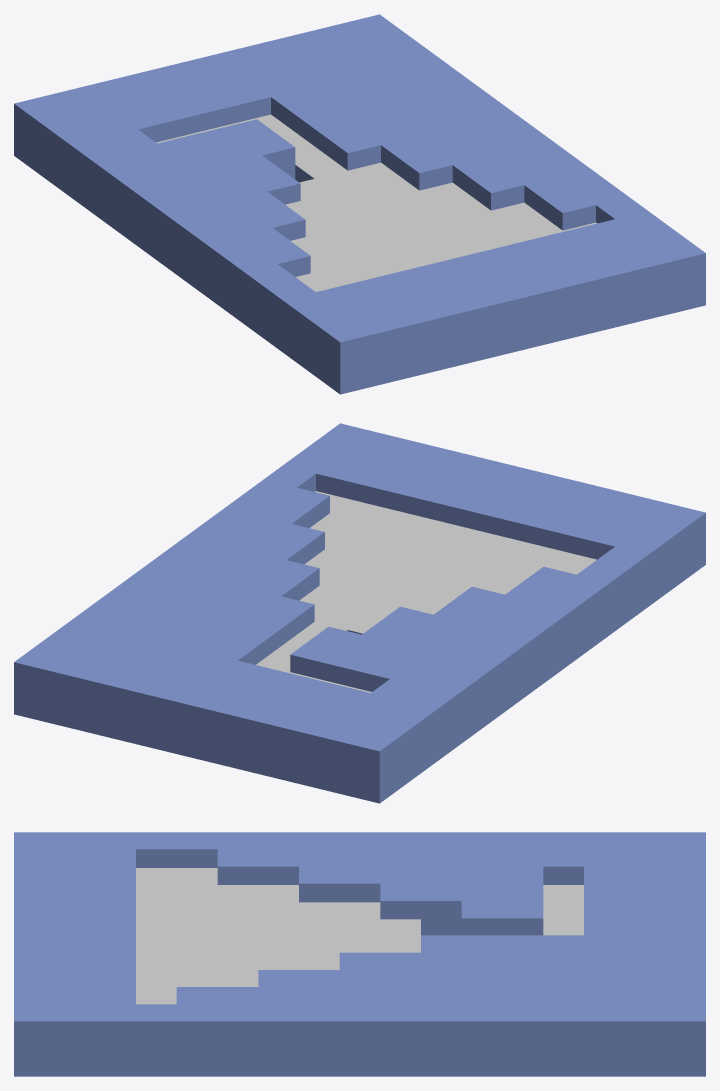
The model's file is 020_platform.fbx.
3 views of the same model, one above another, from view 1: azimuth 30°, elevation 25°; view 2: azimuth 150°, elevation 25°; view 3: azimuth 270°, elevation 25° (orthographic). The views are drawn at different scales.
Parts seen in each view (by area): view 1: Grid; view 2: Grid; view 3: Grid.
Part boxes in pixels (x1,y1,x2,y2): Grid: [14, 14, 705, 394]; Grid: [14, 423, 705, 803]; Grid: [14, 832, 705, 1076].
Bounding box in the file's own units: 1100 × 150 × 1700.
